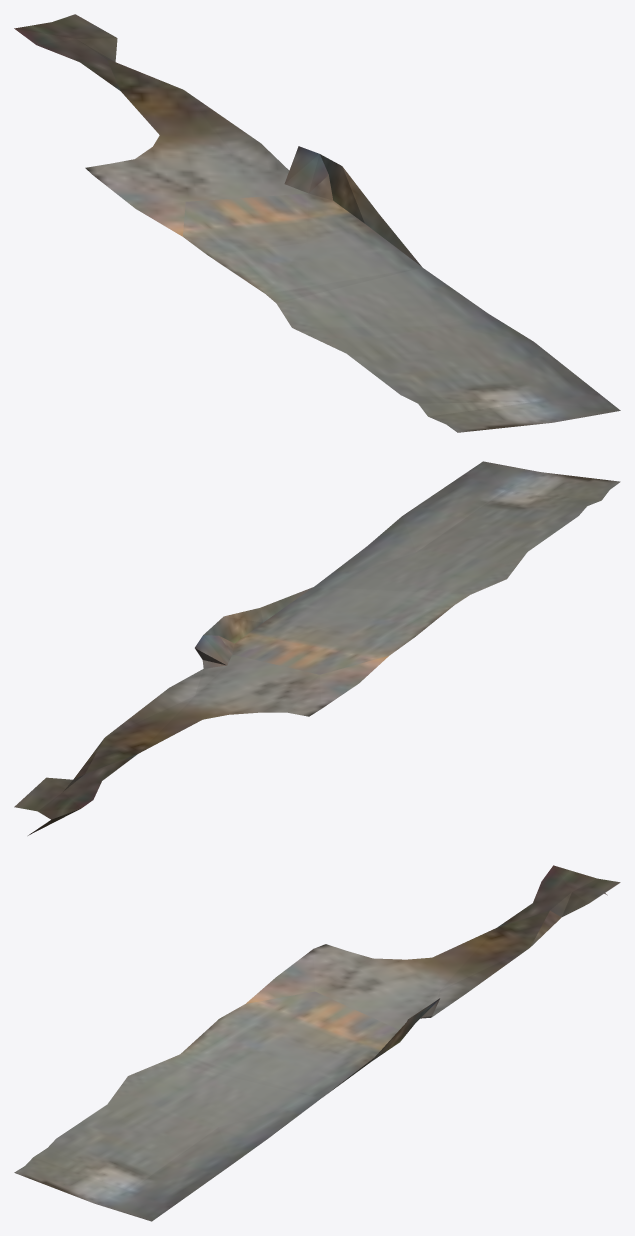
File: meshes_1-dynamic - BLK2GO-3630355-Scan 080 43.obj
The picture shows the model from 3 angles, top to bottom: view 1: azimuth 30°, elevation 25°; view 2: azimuth 150°, elevation 25°; view 3: azimuth 330°, elevation 25°; orthographic projection. The views are drawn at different scales.
Parts seen in each view (by area): view 1: 1-dynamic_-_BLK2GO-3630355-Scan_080_43_0; view 2: 1-dynamic_-_BLK2GO-3630355-Scan_080_43_0; view 3: 1-dynamic_-_BLK2GO-3630355-Scan_080_43_0.
Boxes of the visible parts, x1,y1,x2,y2 form: 1-dynamic_-_BLK2GO-3630355-Scan_080_43_0: [14, 14, 620, 432]; 1-dynamic_-_BLK2GO-3630355-Scan_080_43_0: [14, 461, 620, 835]; 1-dynamic_-_BLK2GO-3630355-Scan_080_43_0: [14, 865, 620, 1221].
Bounding box in the file's own units: 0.4033 × 0.1164 × 2.02.
1 material, 1 textured.
